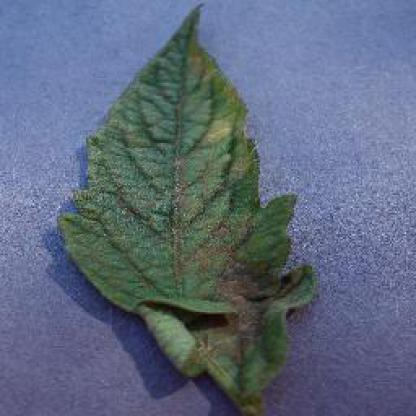bad leaf: (152, 179, 305, 371)
